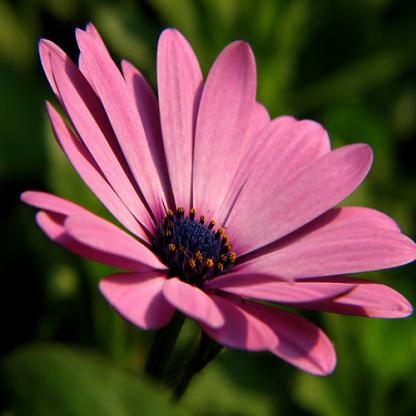ASTER: (23, 12, 406, 392)
